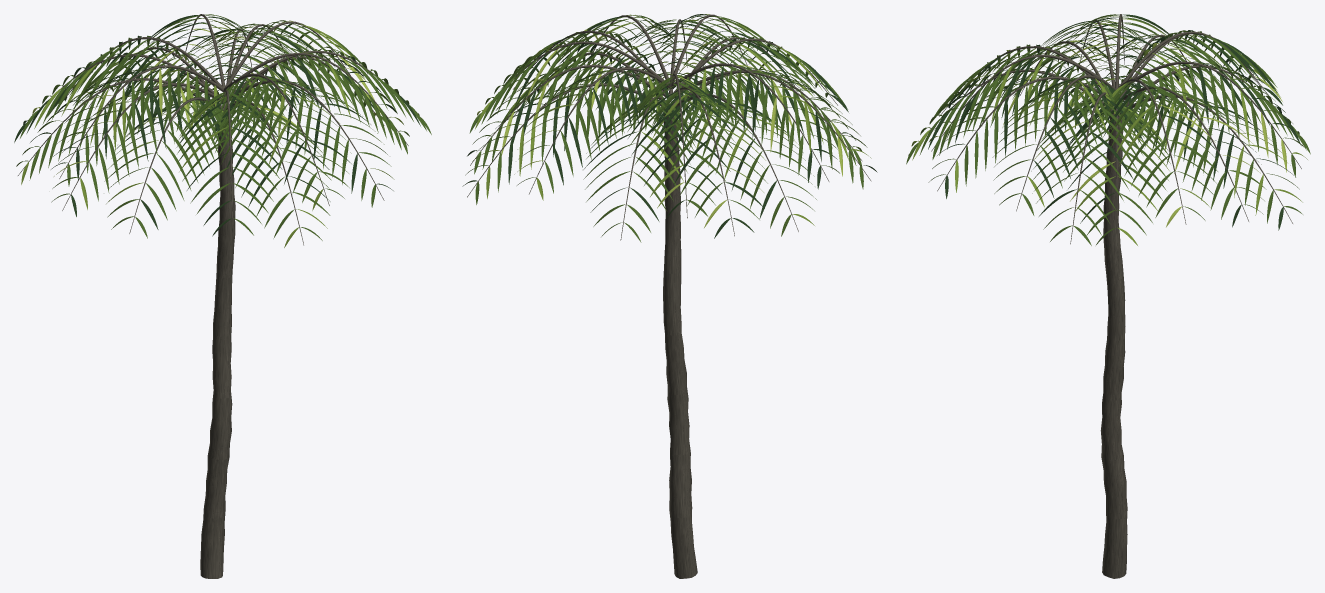
The model's file is warmPalm.glb.
The picture shows the model from 3 angles, left to right: view 1: azimuth 30°, elevation 25°; view 2: azimuth 150°, elevation 25°; view 3: azimuth 270°, elevation 25°; orthographic projection.
Visible parts, largest first — view 1: palm-fronds, palm-trunk-and-rachis; view 2: palm-fronds, palm-trunk-and-rachis; view 3: palm-fronds, palm-trunk-and-rachis.
Boxes of the visible parts, x1,y1,x2,y2 form: palm-fronds: (14, 14, 431, 247); palm-trunk-and-rachis: (18, 14, 408, 578); palm-fronds: (462, 14, 877, 242); palm-trunk-and-rachis: (467, 14, 871, 578); palm-fronds: (906, 14, 1310, 245); palm-trunk-and-rachis: (908, 14, 1301, 578).
Bounding box in the file's own units: 6.26 × 8.52 × 5.91.
5 materials, 5 textured.
